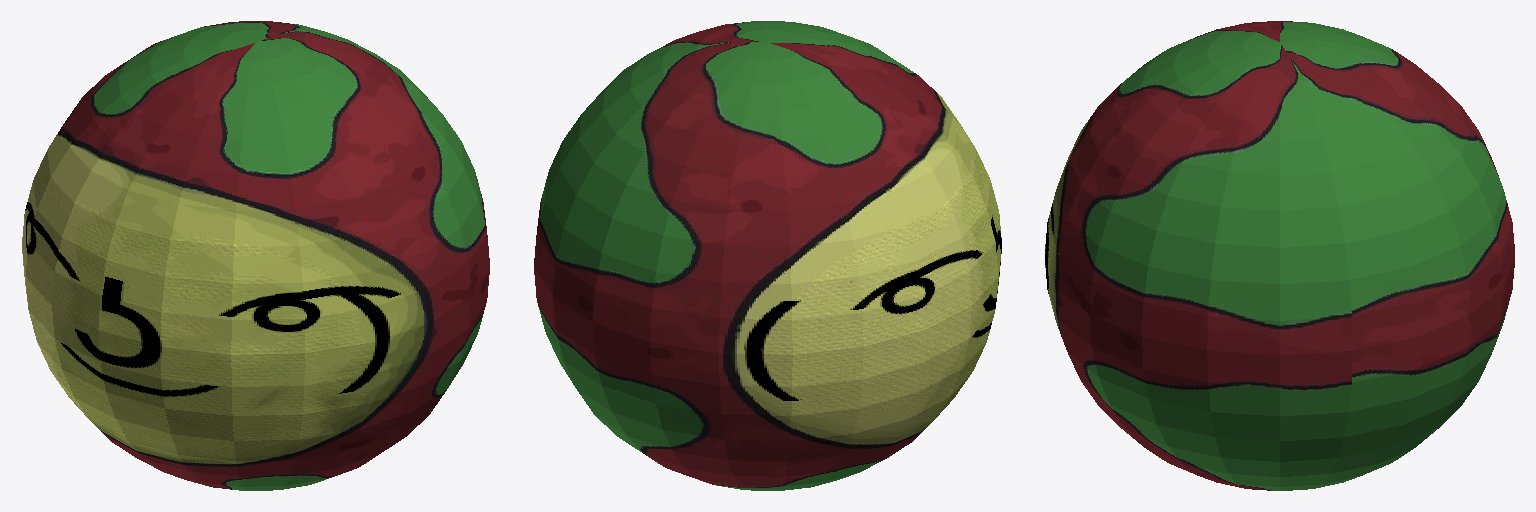
3 renders of one model, left to right at view 1: azimuth 30°, elevation 25°; view 2: azimuth 150°, elevation 25°; view 3: azimuth 270°, elevation 25°, orthographic.
Visible parts, largest first — view 1: pSphere1; view 2: pSphere1; view 3: pSphere1.
Boxes of the visible parts, x1=… form: pSphere1: x1=22, y1=21, x2=489, y2=490; pSphere1: x1=534, y1=21, x2=1001, y2=490; pSphere1: x1=1045, y1=21, x2=1514, y2=490.
Size of the model in its own units: 12.03 by 12.03 by 12.03.
1 materials, 1 textured.